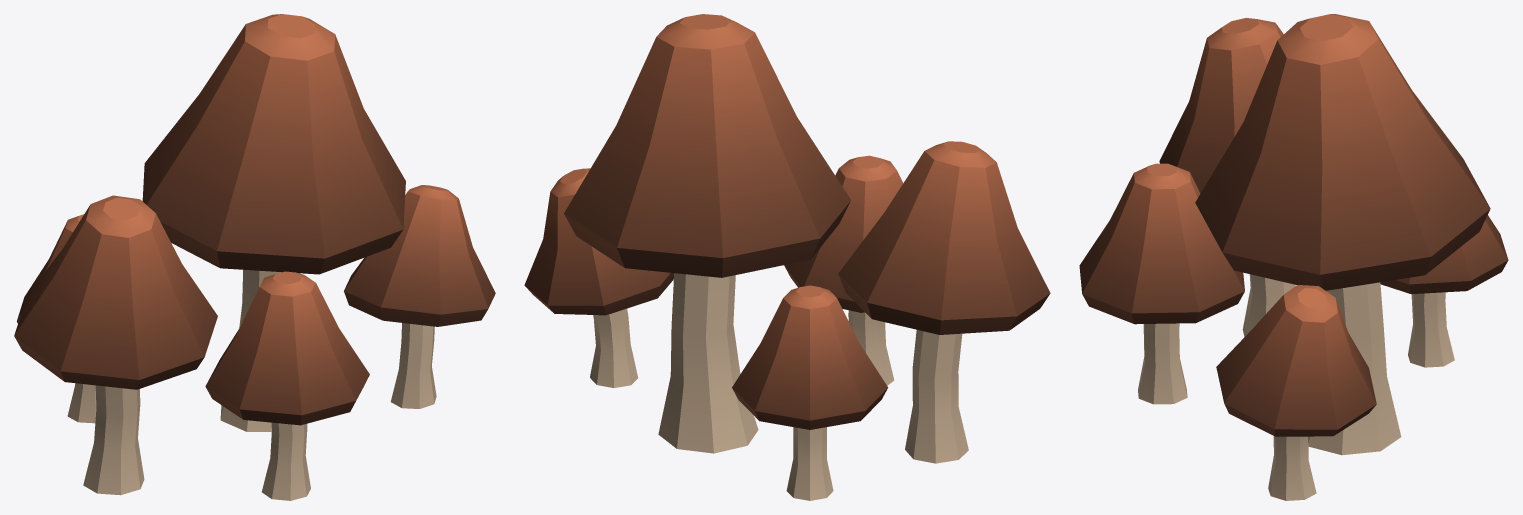
File: Autumn_Mushroom_03.glb
3 renders of one model, left to right at view 1: azimuth 30°, elevation 25°; view 2: azimuth 150°, elevation 25°; view 3: azimuth 270°, elevation 25°, orthographic. The views are drawn at different scales.
Visible parts, largest first — view 1: Autumn_Mushroom_03_LOD0; view 2: Autumn_Mushroom_03_LOD0; view 3: Autumn_Mushroom_03_LOD0.
Boxes of the visible parts, left/top/right/bottom form: Autumn_Mushroom_03_LOD0: left=14, top=14, right=495, bottom=500; Autumn_Mushroom_03_LOD0: left=524, top=14, right=1050, bottom=500; Autumn_Mushroom_03_LOD0: left=1079, top=14, right=1508, bottom=500.
Size of what is drawn, in the model's own units: 0.3749 by 0.2998 by 0.2799.
Materials: 1 (1 with a texture image).
